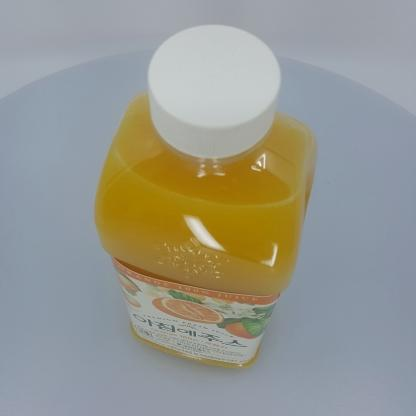----------950ML: (94, 24, 318, 370)
